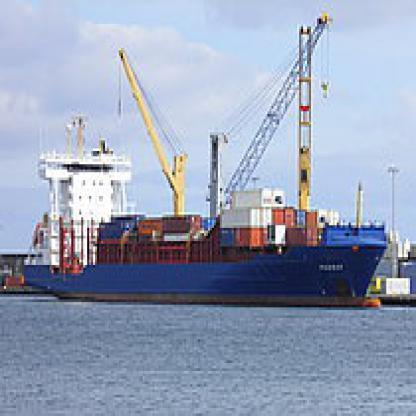Container Ship: (19, 112, 388, 306)
